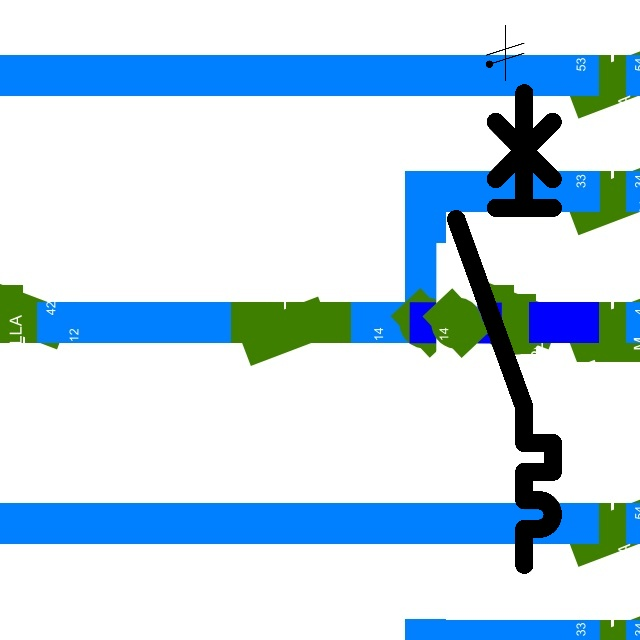interruptor_termomagnetico: (444, 81, 565, 577)
